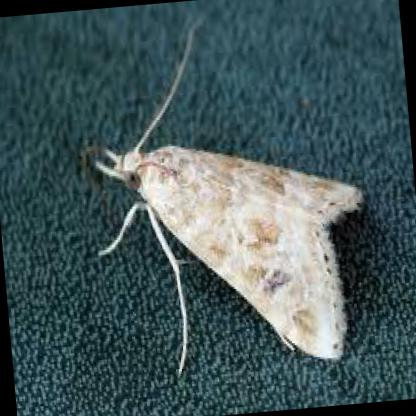Hellula undalis: (92, 15, 365, 391)
